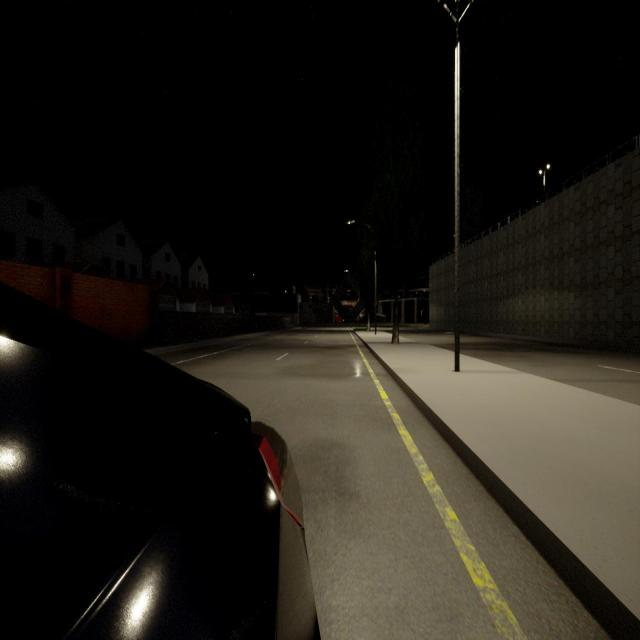Vehicle: (0, 283, 314, 638)
